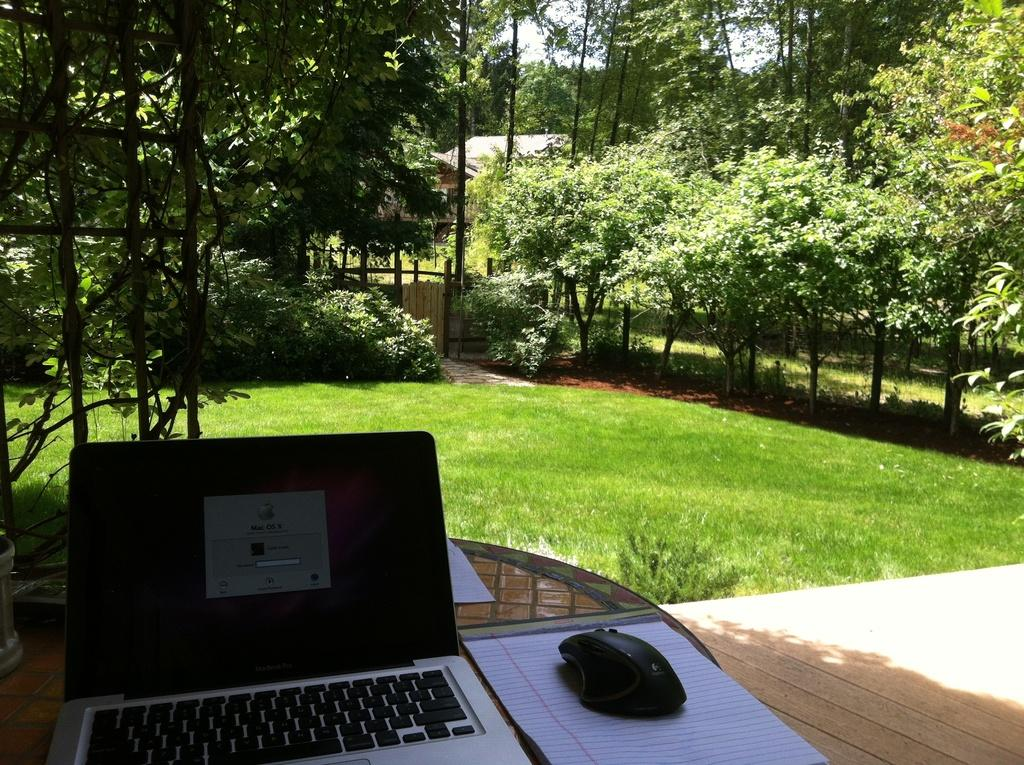Computer-keyboard: (81, 666, 478, 764)
Computer-mouse: (558, 627, 694, 721)
Laptop: (47, 453, 524, 765)
